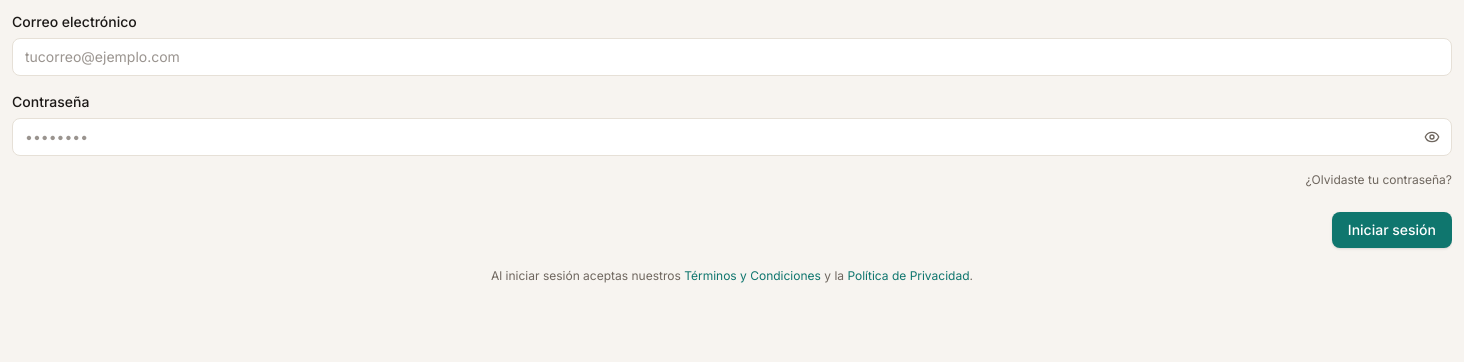
Test: LoginForm › muestra el mensaje de error cuando las credenciales son incorrectas
Step 1. Type "cliente@superamigos.test" into the field labelled "Correo electrónico" → x=732, y=57, box [12,38,1452,76]
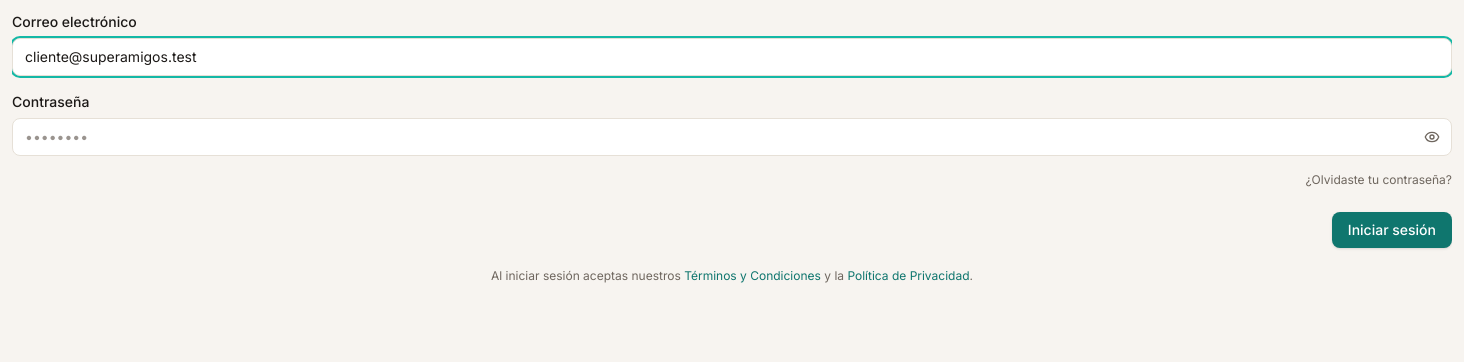
Step 2. Type "Clave123!" into the password field labelled "Contraseña" → x=732, y=137, box [12,118,1452,156]
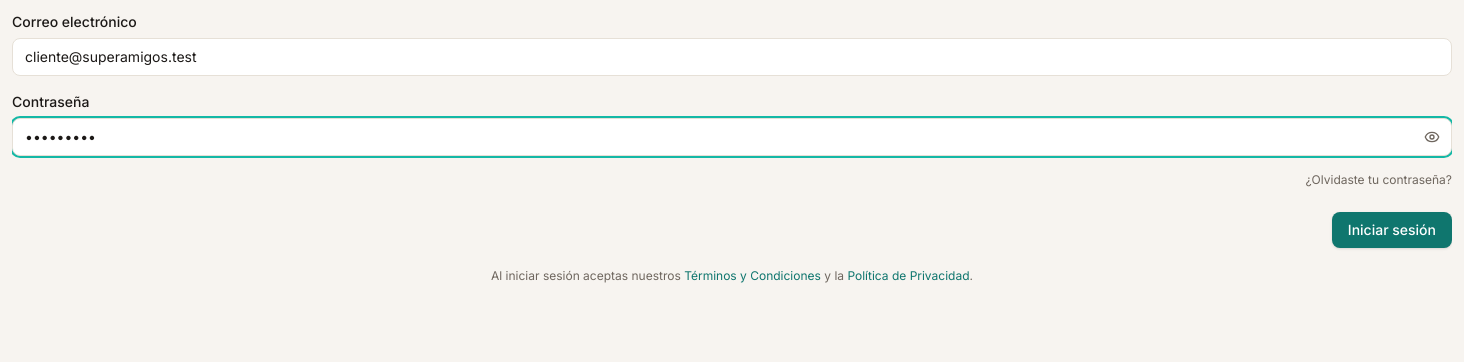
Step 3. Click the button "Iniciar sesión" → x=1392, y=230, box [1332,212,1452,248]
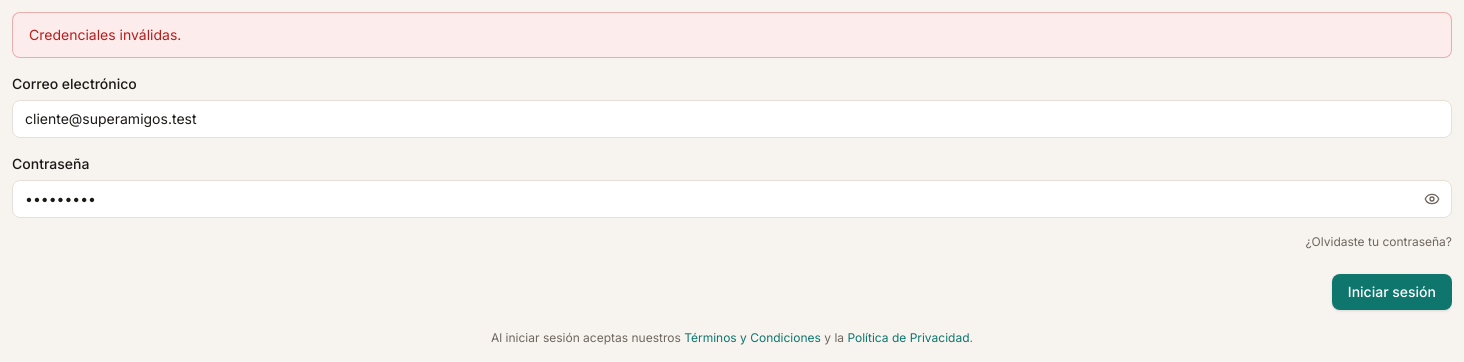
Result: the message reads "Credenciales inválidas." at [29,26,181,43]
